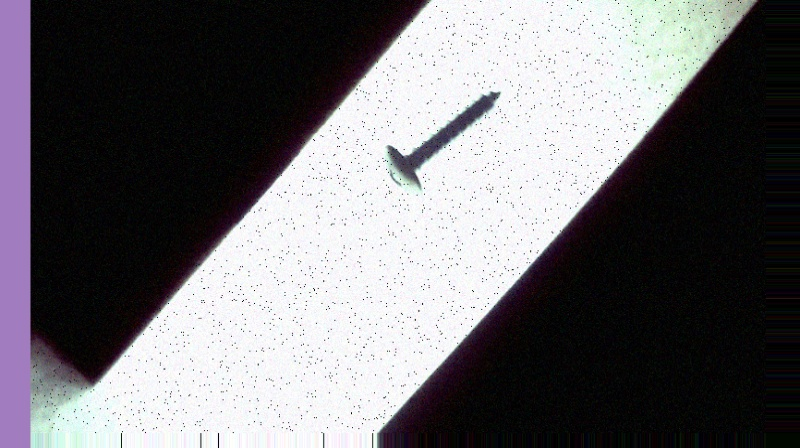S003: (378, 87, 505, 200)
